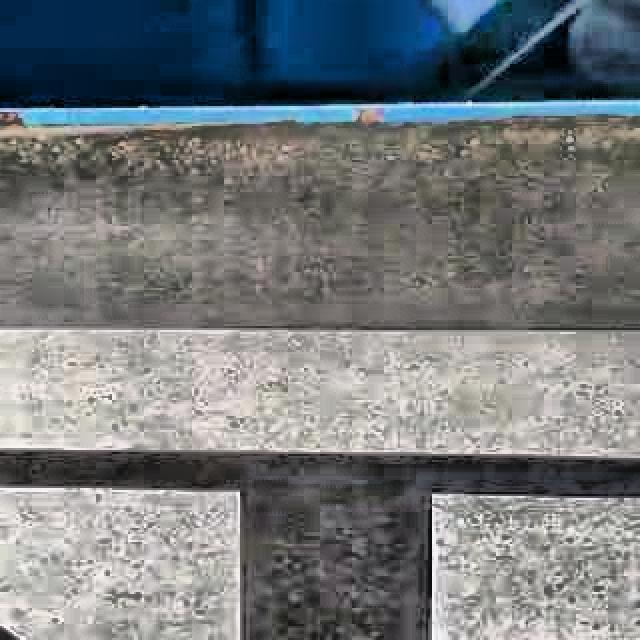metal: (389, 0, 640, 100)
